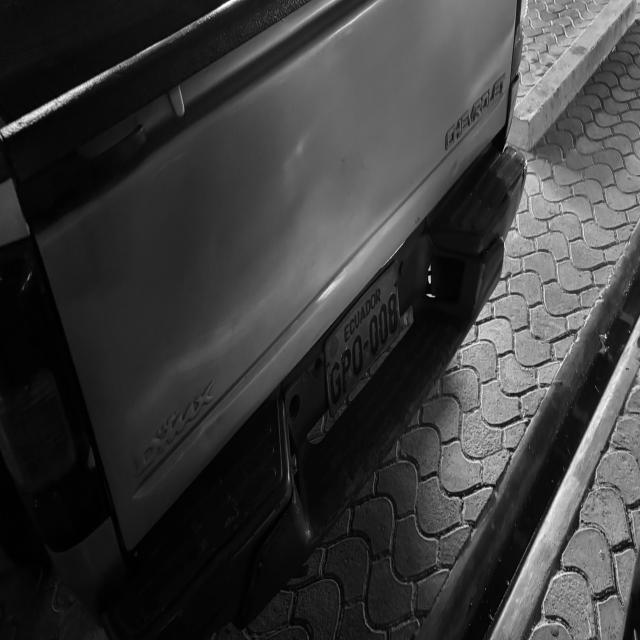Placa: (324, 262, 400, 416)
